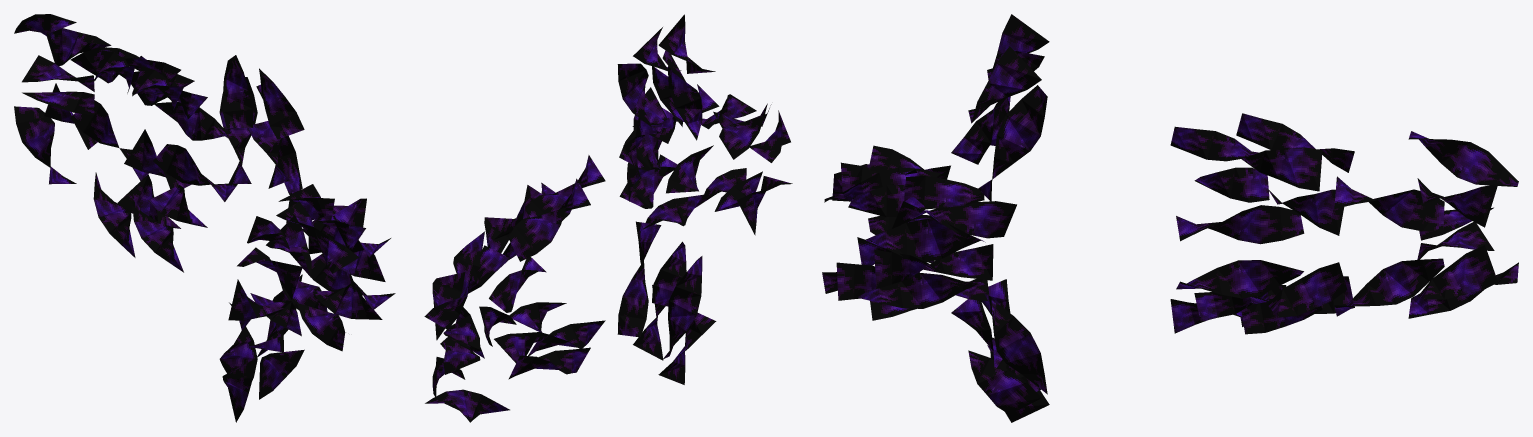
The picture shows the model from 3 angles, left to right: view 1: azimuth 30°, elevation 25°; view 2: azimuth 150°, elevation 25°; view 3: azimuth 270°, elevation 25°; orthographic projection. The views are drawn at different scales.
Visible parts, largest first — view 1: acce1040; view 2: acce1040; view 3: acce1040.
Boxes of the visible parts, bbox=[...] form: acce1040: bbox=[14, 14, 395, 422]; acce1040: bbox=[424, 14, 792, 422]; acce1040: bbox=[822, 14, 1518, 422].
Bounding box in the file's own units: 0.7481 × 1.94 × 2.99.
1 material, 1 textured.
